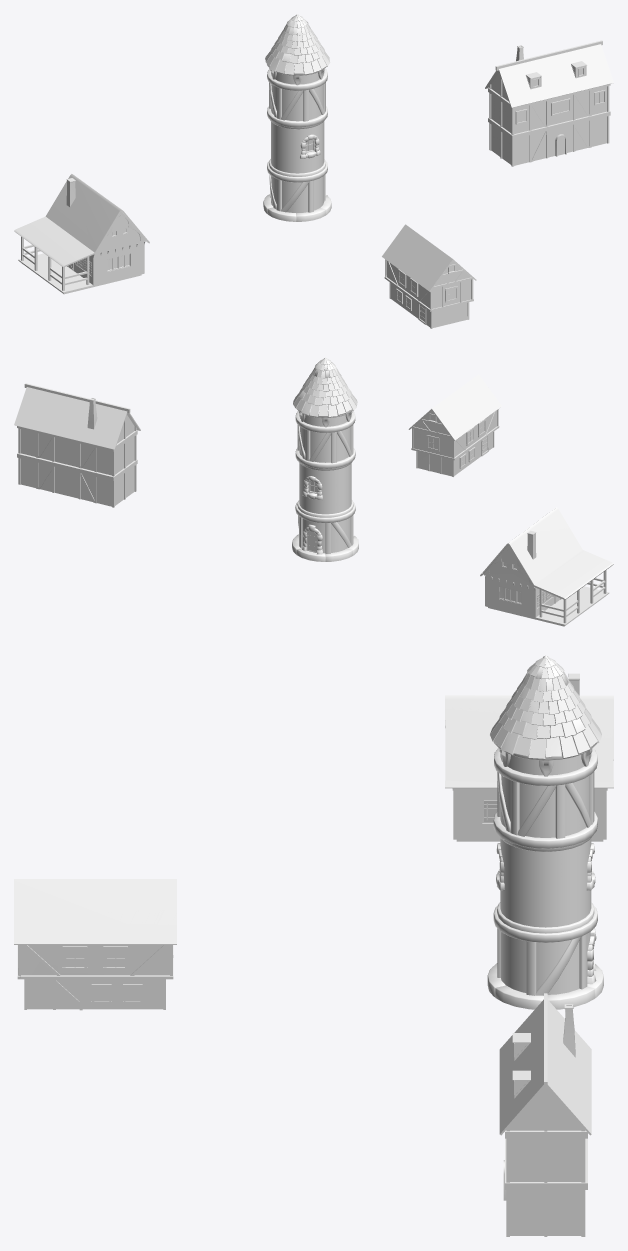
The model's file is House.0bf9c336.glb.
3 renders of one model, top to bottom at view 1: azimuth 30°, elevation 25°; view 2: azimuth 150°, elevation 25°; view 3: azimuth 270°, elevation 25°, orthographic. The views are drawn at different scales.
Visible parts, largest first — view 1: House3, Tower, 01_med_house_lp, Cube.001; view 2: House3, Tower, 01_med_house_lp, Cube.001; view 3: Tower, Cube.001, House3, 01_med_house_lp.
Part boxes in pixels (x1,y1,x2,y2): House3: (485,40,613,166); Tower: (263,14,331,221); 01_med_house_lp: (14,174,149,294); Cube.001: (382,224,476,328); House3: (14,383,140,507); Tower: (292,357,358,561); 01_med_house_lp: (480,507,613,626); Cube.001: (408,374,501,476); Tower: (487,655,603,1009); Cube.001: (14,879,176,1010); House3: (499,993,591,1236); 01_med_house_lp: (445,673,613,841).
Size of the model in its own units: 59.76 by 19.96 by 31.97.
Materials: 8 (4 with a texture image).
